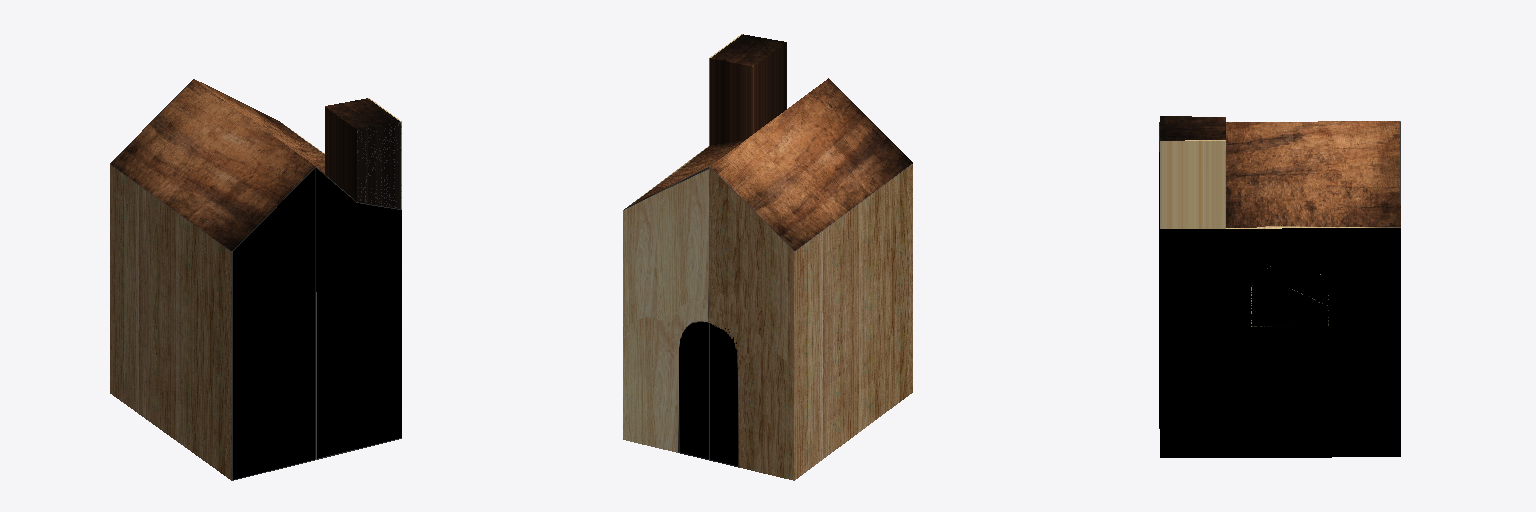
3 renders of one model, left to right at view 1: azimuth 30°, elevation 25°; view 2: azimuth 150°, elevation 25°; view 3: azimuth 270°, elevation 25°, orthographic.
Visible parts, largest first — view 1: pCube1; view 2: pCube1; view 3: pCube1.
Boxes of the visible parts, x1,y1,x2,y2 form: pCube1: [110, 79, 401, 480]; pCube1: [623, 34, 912, 480]; pCube1: [1159, 116, 1400, 457].
Bounding box in the file's own units: 10.14 × 17.94 × 12.35.
2 materials, 1 textured.